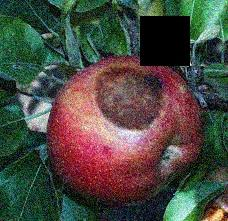rotten apple: (44, 56, 206, 205)
